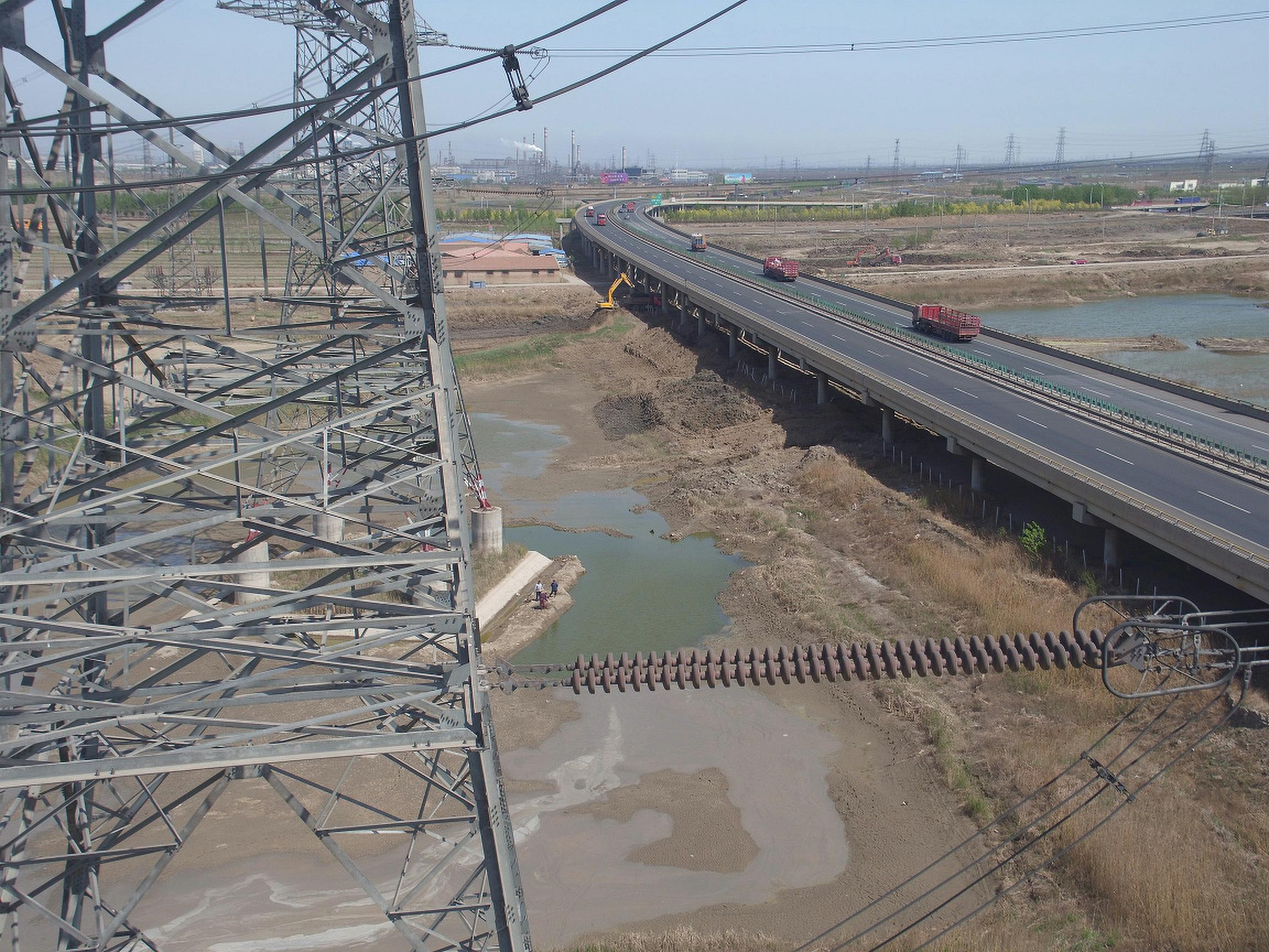insulator: (566, 626, 1118, 699)
